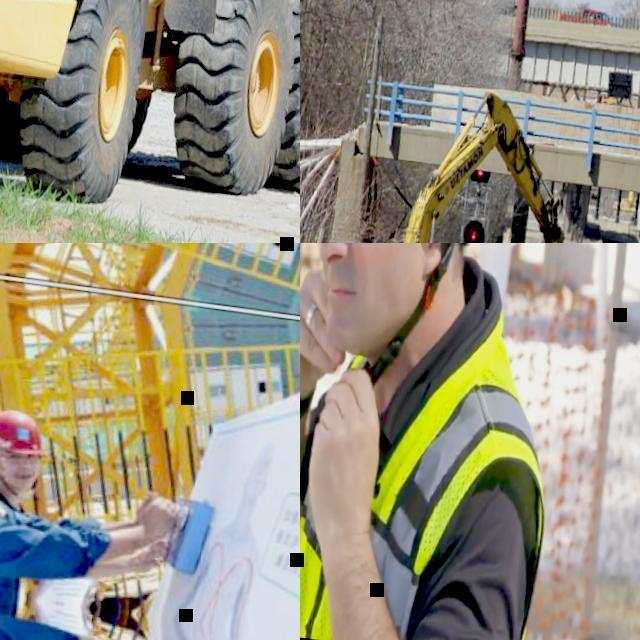Helmet: (0, 407, 61, 463)
Robbery: (306, 247, 552, 640), (0, 382, 199, 640)
